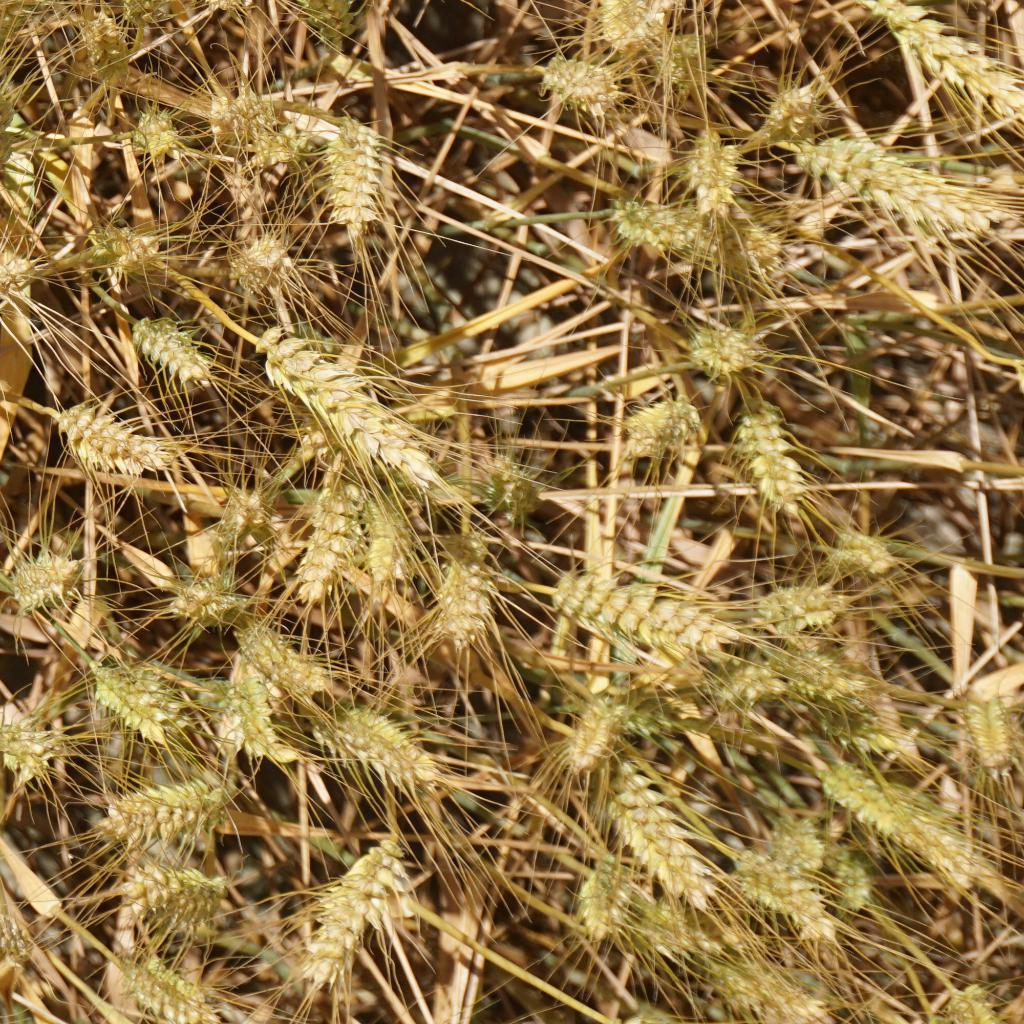0-0: (246, 318, 438, 470), (797, 140, 989, 240), (876, 0, 1016, 124), (302, 847, 430, 979), (552, 564, 727, 653), (820, 757, 949, 861), (591, 769, 702, 879), (327, 701, 448, 786), (99, 775, 236, 850), (728, 392, 812, 514), (47, 401, 159, 482), (282, 473, 350, 601), (317, 114, 388, 235), (431, 523, 498, 650), (601, 381, 700, 463), (126, 854, 231, 928), (587, 675, 692, 747), (354, 480, 413, 607), (111, 957, 220, 1024), (675, 302, 770, 373), (87, 653, 175, 726), (230, 617, 320, 688), (714, 205, 791, 287), (550, 666, 609, 771), (212, 671, 287, 752), (709, 956, 819, 1011), (215, 83, 286, 163), (222, 223, 310, 287), (749, 565, 833, 629), (82, 13, 145, 98), (468, 443, 542, 515), (642, 25, 717, 96), (598, 187, 693, 243), (811, 684, 894, 748), (961, 688, 1024, 771), (0, 542, 82, 605), (120, 311, 203, 373), (732, 854, 807, 922), (540, 47, 615, 114), (86, 214, 168, 275), (755, 66, 823, 139), (784, 638, 861, 702), (678, 132, 737, 205), (158, 562, 231, 620), (824, 516, 898, 571), (728, 645, 783, 719), (0, 719, 66, 780), (589, 0, 663, 50), (217, 492, 274, 555), (769, 801, 824, 866), (287, 0, 345, 58), (580, 857, 627, 926), (126, 104, 187, 157), (832, 844, 872, 915), (0, 75, 25, 173), (941, 982, 996, 1024), (0, 245, 37, 304), (0, 901, 28, 970), (103, 0, 167, 30), (0, 0, 32, 55), (172, 0, 245, 15)
